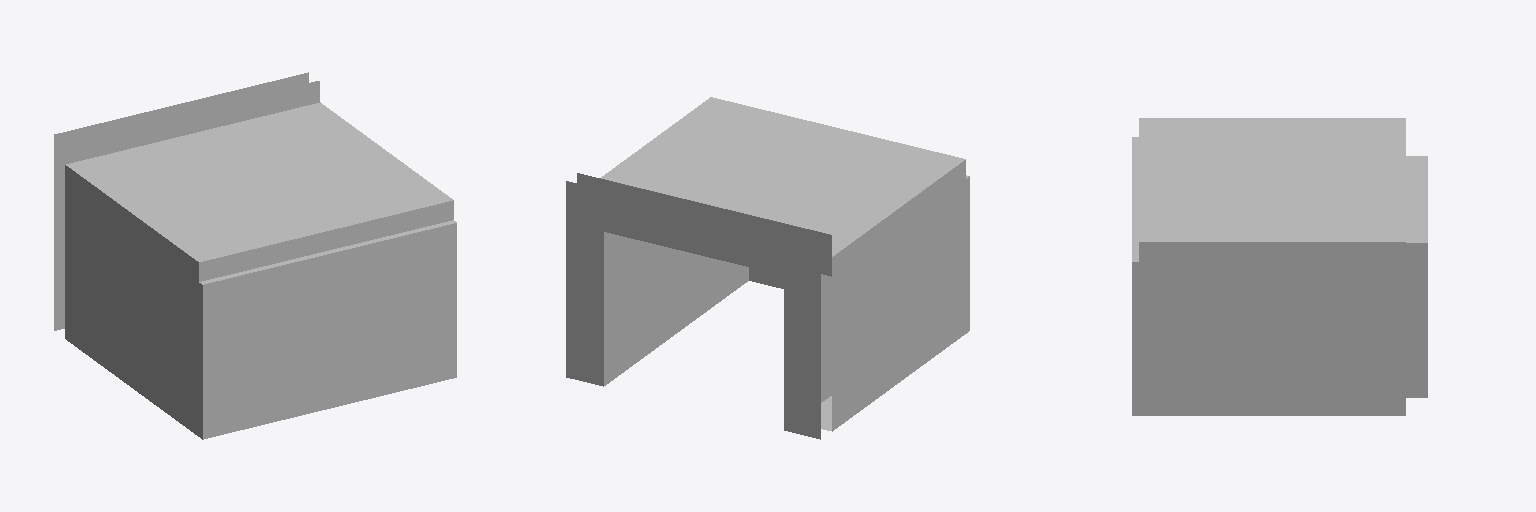
Rendered from elevatorRoom.obj.
3 views of the same model, side by side, from view 1: azimuth 30°, elevation 25°; view 2: azimuth 150°, elevation 25°; view 3: azimuth 270°, elevation 25° (orthographic).
Parts seen in each view (by area): view 1: elevatorRoom; view 2: elevatorRoom; view 3: elevatorRoom.
Part boxes in pixels (x1,y1,x2,y2): elevatorRoom: (54,72,456,439); elevatorRoom: (566,97,969,439); elevatorRoom: (1132,118,1427,415).
Bounding box in the file's own units: 6.78 × 4.99 × 6.82.